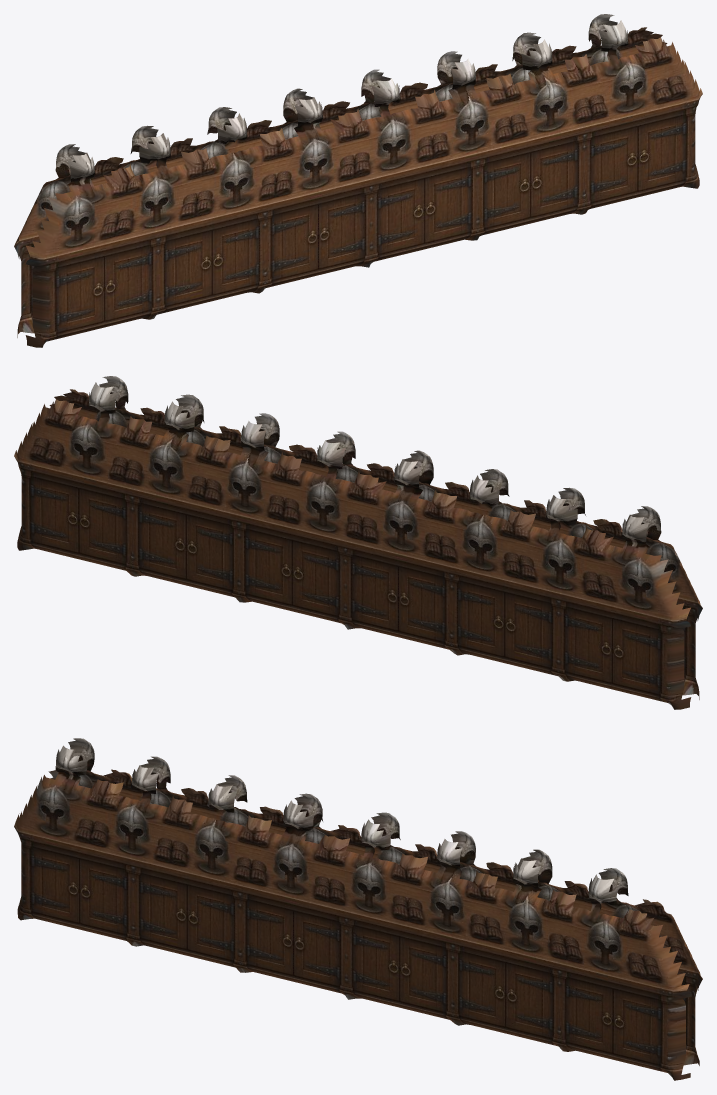
Rendered from v4-armory-scatter-armor-display.glb.
3 renders of one model, top to bottom at view 1: azimuth 30°, elevation 25°; view 2: azimuth 150°, elevation 25°; view 3: azimuth 330°, elevation 25°, orthographic.
Parts seen in each view (by area): view 1: v4-armory-scatter-armor-display; view 2: v4-armory-scatter-armor-display; view 3: v4-armory-scatter-armor-display.
Boxes of the visible parts, box(x1,y1,x2,y2) form: v4-armory-scatter-armor-display: box(14, 14, 702, 347); v4-armory-scatter-armor-display: box(14, 376, 702, 709); v4-armory-scatter-armor-display: box(14, 738, 702, 1080).
Size of the model in its own units: 3.73 by 0.95 by 0.24.
Materials: 1 (1 with a texture image).
